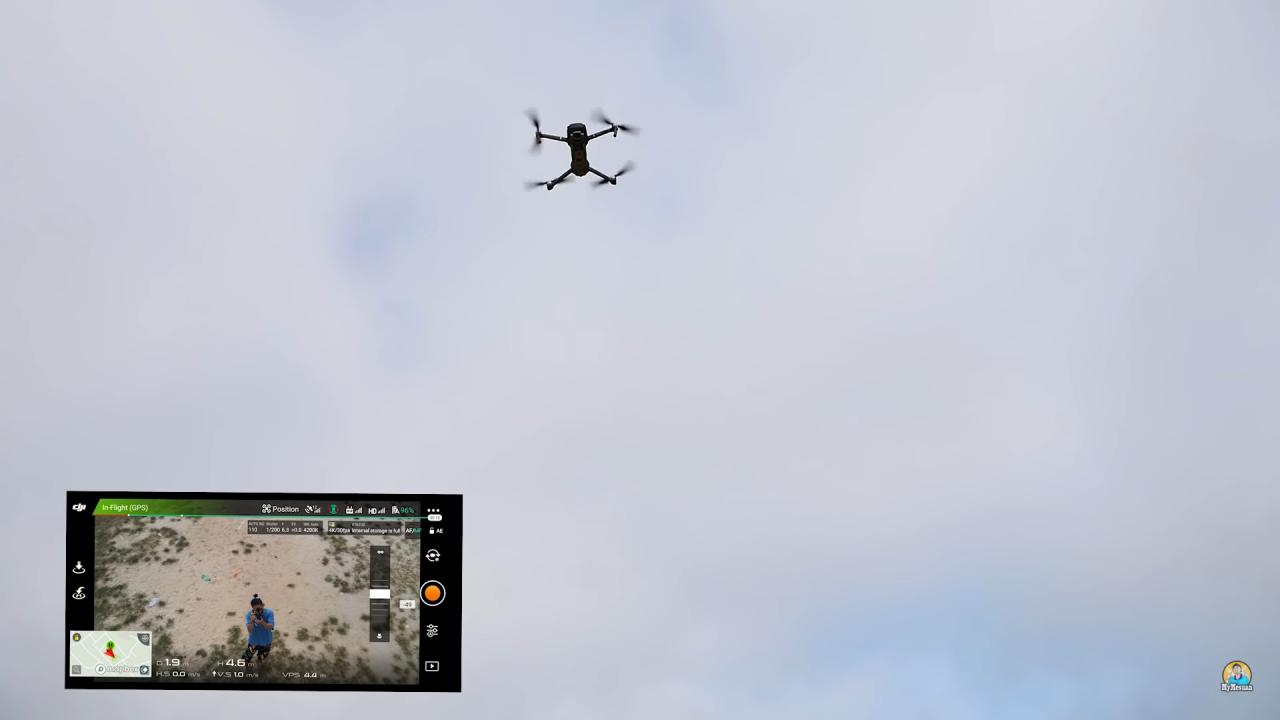Drone: (512, 95, 646, 200)
